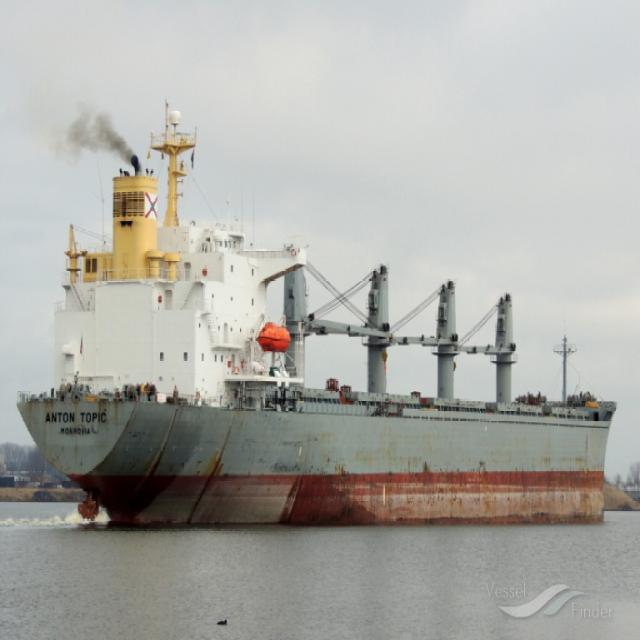Bulk Carrier: (18, 100, 616, 527)
